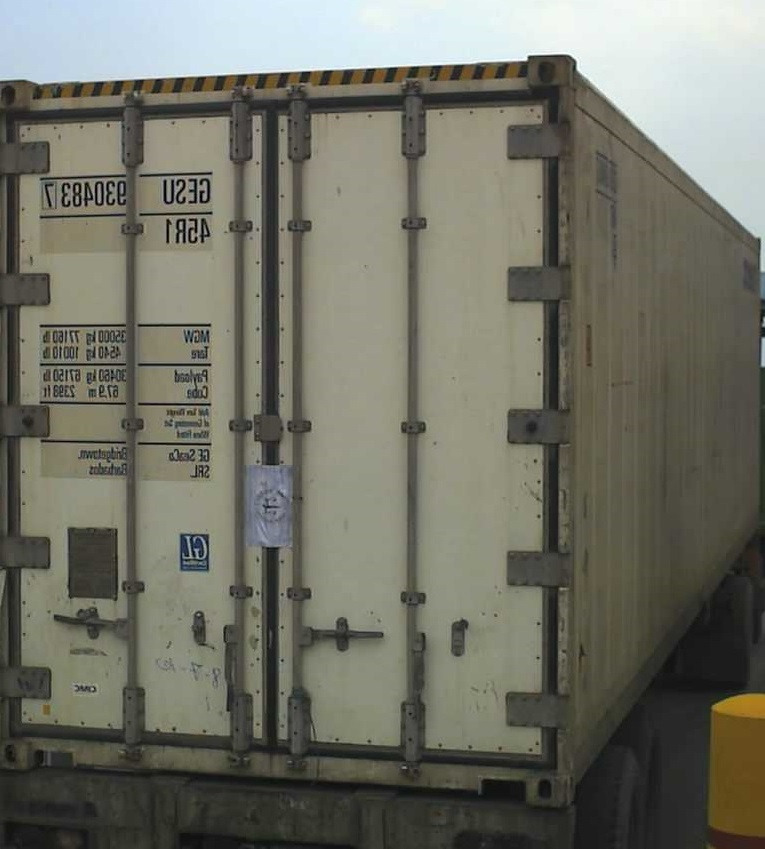container_door: (10, 58, 570, 788)
